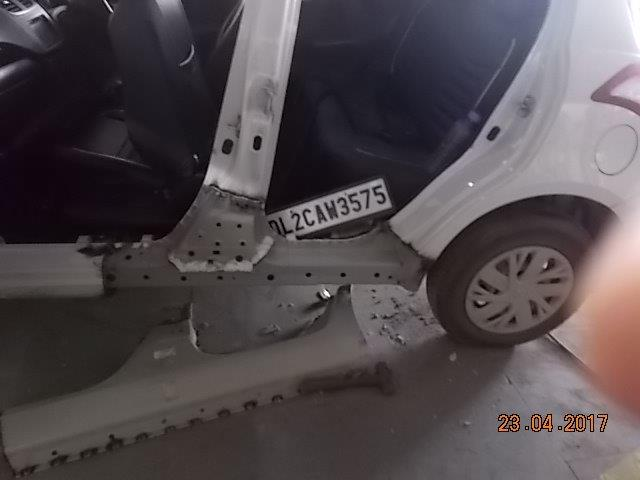Dent: (188, 243, 246, 298), (129, 211, 160, 244), (160, 228, 183, 256)
